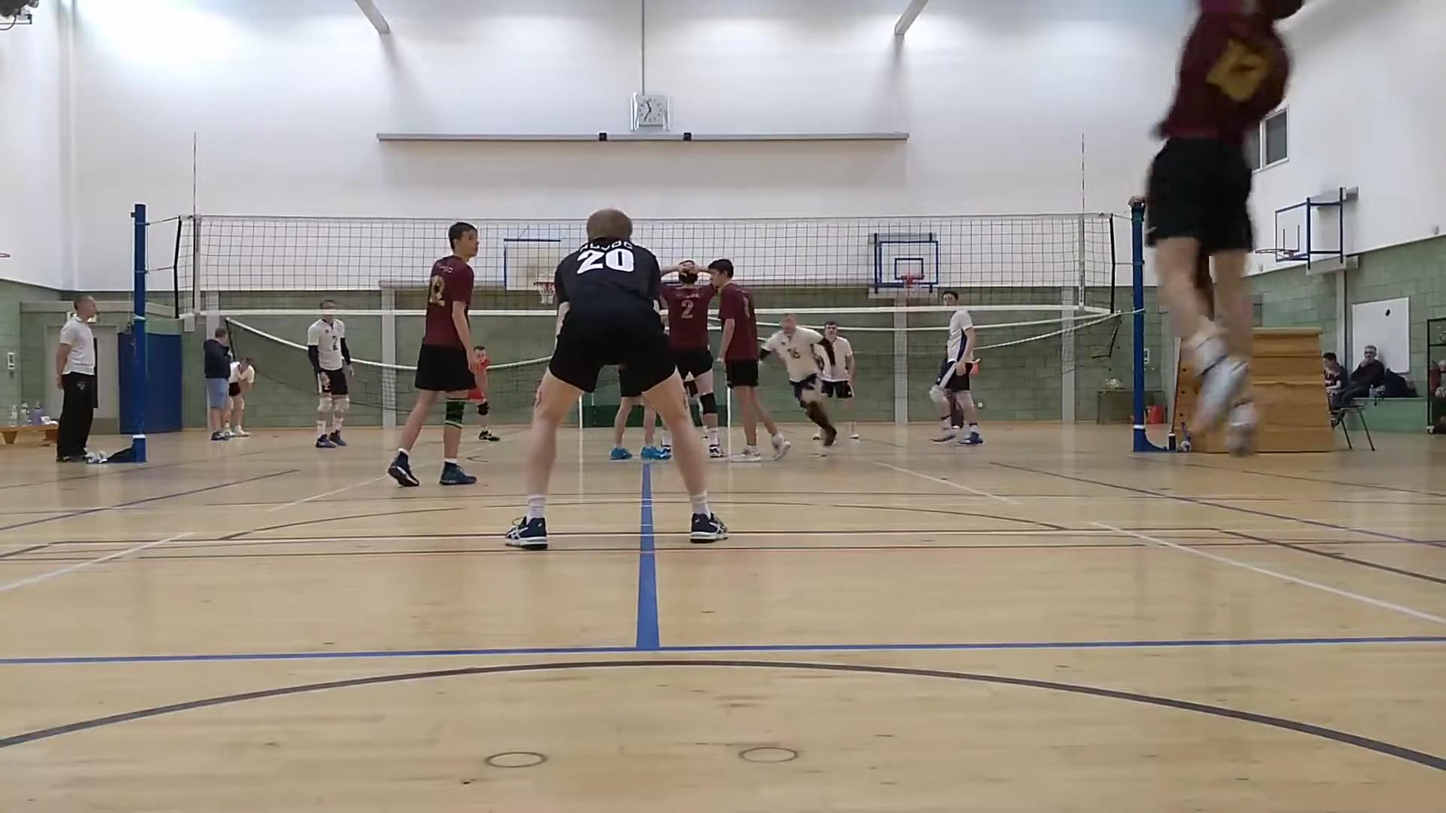battuta: (1125, 0, 1303, 453)
